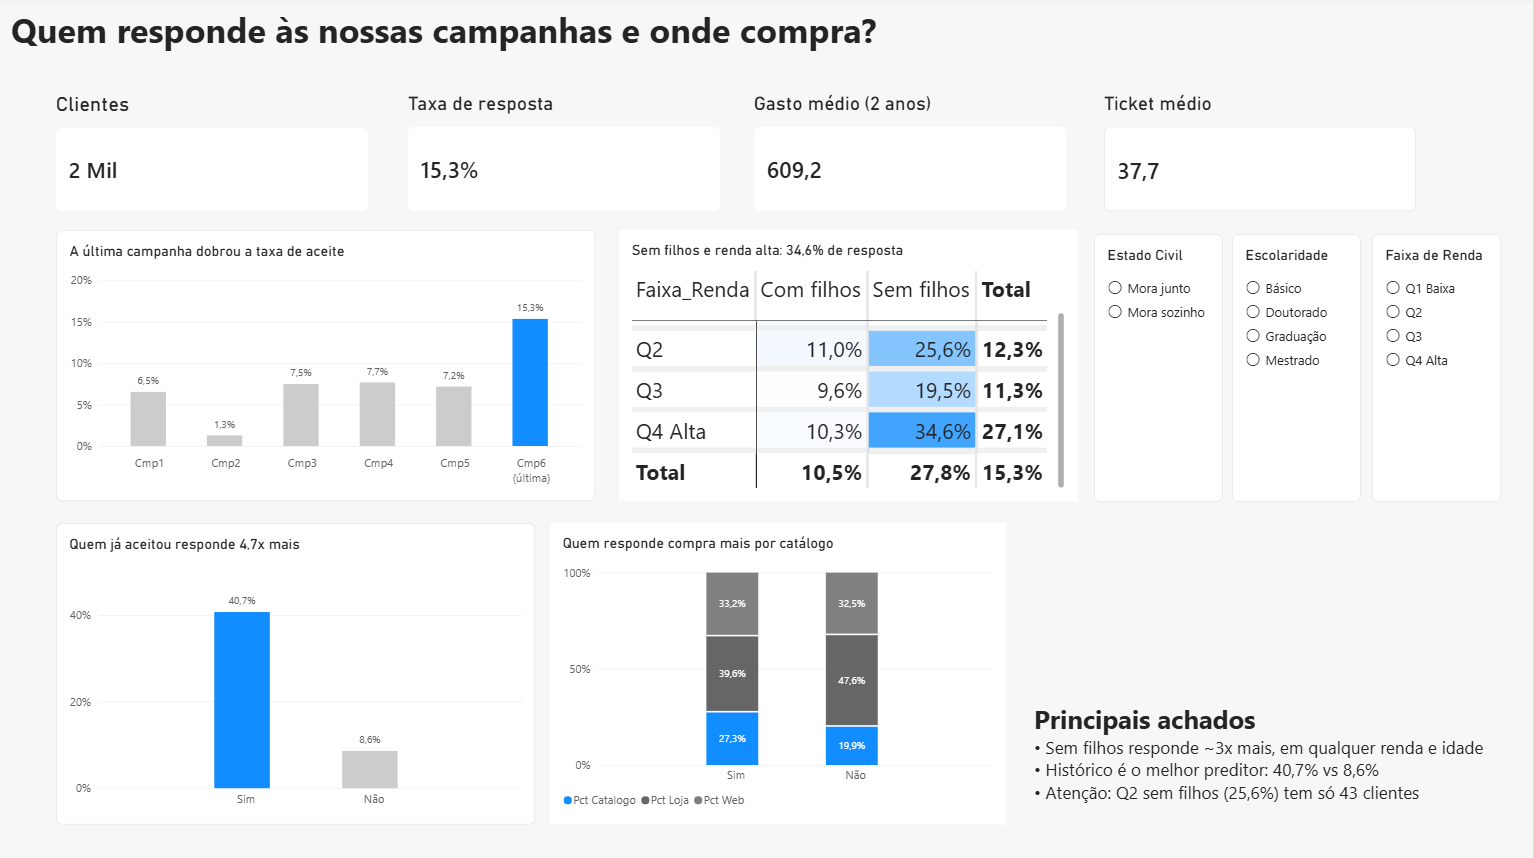

Layout of this report page (visuals, bound fields, positions):
{"tool":"powerbi","page":{"name":"Página 1","canvas":[1920,1080],"ordinal":0},"visuals":[{"type":"textbox","box":[18,14,1258.6,90.2],"z":0},{"type":"cardVisual","title":"Clientes","fields":{"Data":["clientes_limpo.Total Clientes"]},"box":[74.1,120.9,390,149.7],"z":1},{"type":"cardVisual","title":"Taxa de resposta","fields":{"Data":["clientes_limpo.Taxa Resposta"]},"box":[514,120.9,390,149.7],"z":2},{"type":"cardVisual","title":"Gasto médio (2 anos)","fields":{"Data":["clientes_limpo.Gasto Medio"]},"box":[946.4,120.9,390,149.7],"z":3},{"type":"cardVisual","title":"Ticket médio","fields":{"Data":["clientes_limpo.Ticket Medio"]},"box":[1383.3,120.9,390,149.7],"z":4},{"type":"columnChart","title":"A última campanha dobrou a taxa de aceite","fields":{"Category":["campanhas.Campanha"],"Y":["campanhas.Taxa Aceite Campanha"]},"box":[73.5,294,673.5,339],"z":5},{"type":"pivotTable","title":"Sem filhos e renda alta: 34,6% de resposta","fields":{"Columns":["clientes_limpo.Tem_Filhos"],"Rows":["clientes_limpo.Faixa_Renda"],"Values":["clientes_limpo.Taxa Resposta"]},"box":[777,294,573.2,338.7],"z":6},{"type":"columnChart","title":"Quem já aceitou responde 4,7x mais","fields":{"Category":["clientes_limpo.Ja_Aceitou"],"Y":["clientes_limpo.Taxa Resposta"]},"box":[73.5,660,598.5,376.5],"z":7},{"type":"columnChart","title":"Quem responde compra mais por catálogo","fields":{"Category":["clientes_limpo.Respondeu"],"Y":["clientes_limpo.Pct Catalogo","clientes_limpo.Pct Loja","clientes_limpo.Pct Web"]},"box":[691.5,660,570,376.5],"z":8},{"type":"listSlicer","title":"Estado Civil","fields":{"Values":["clientes_limpo.Estado_Civil"]},"box":[1371,298.5,160.5,334.5],"z":9},{"type":"listSlicer","title":"Faixa de Renda","fields":{"Values":["clientes_limpo.Faixa_Renda"]},"box":[1719,298.5,160.5,334.5],"z":10},{"type":"listSlicer","fields":{"Values":["clientes_limpo.Escolaridade"]},"box":[1543.5,298.5,160.5,334.5],"z":11},{"type":"textbox","box":[1296.8,882,593.9,155.4],"z":12}]}

Visuals, with their boxes in screenshot pixels (x1, y1, x2, y2), scaled from the page's 1920x1080 canvas onto the 1534x858 screenshot:
textbox: Rect(14, 11, 1020, 83)
"Clientes" cardVisual: Rect(59, 96, 371, 215)
"Taxa de resposta" cardVisual: Rect(411, 96, 722, 215)
"Gasto médio (2 anos)" cardVisual: Rect(756, 96, 1068, 215)
"Ticket médio" cardVisual: Rect(1105, 96, 1417, 215)
"A última campanha dobrou a taxa de aceite" columnChart: Rect(59, 234, 597, 503)
"Sem filhos e renda alta: 34,6% de resposta" pivotTable: Rect(621, 234, 1079, 503)
"Quem já aceitou responde 4,7x mais" columnChart: Rect(59, 524, 537, 823)
"Quem responde compra mais por catálogo" columnChart: Rect(552, 524, 1008, 823)
"Estado Civil" listSlicer: Rect(1095, 237, 1224, 503)
"Faixa de Renda" listSlicer: Rect(1373, 237, 1502, 503)
listSlicer - clientes_limpo.Escolaridade: Rect(1233, 237, 1361, 503)
textbox: Rect(1036, 701, 1511, 824)
